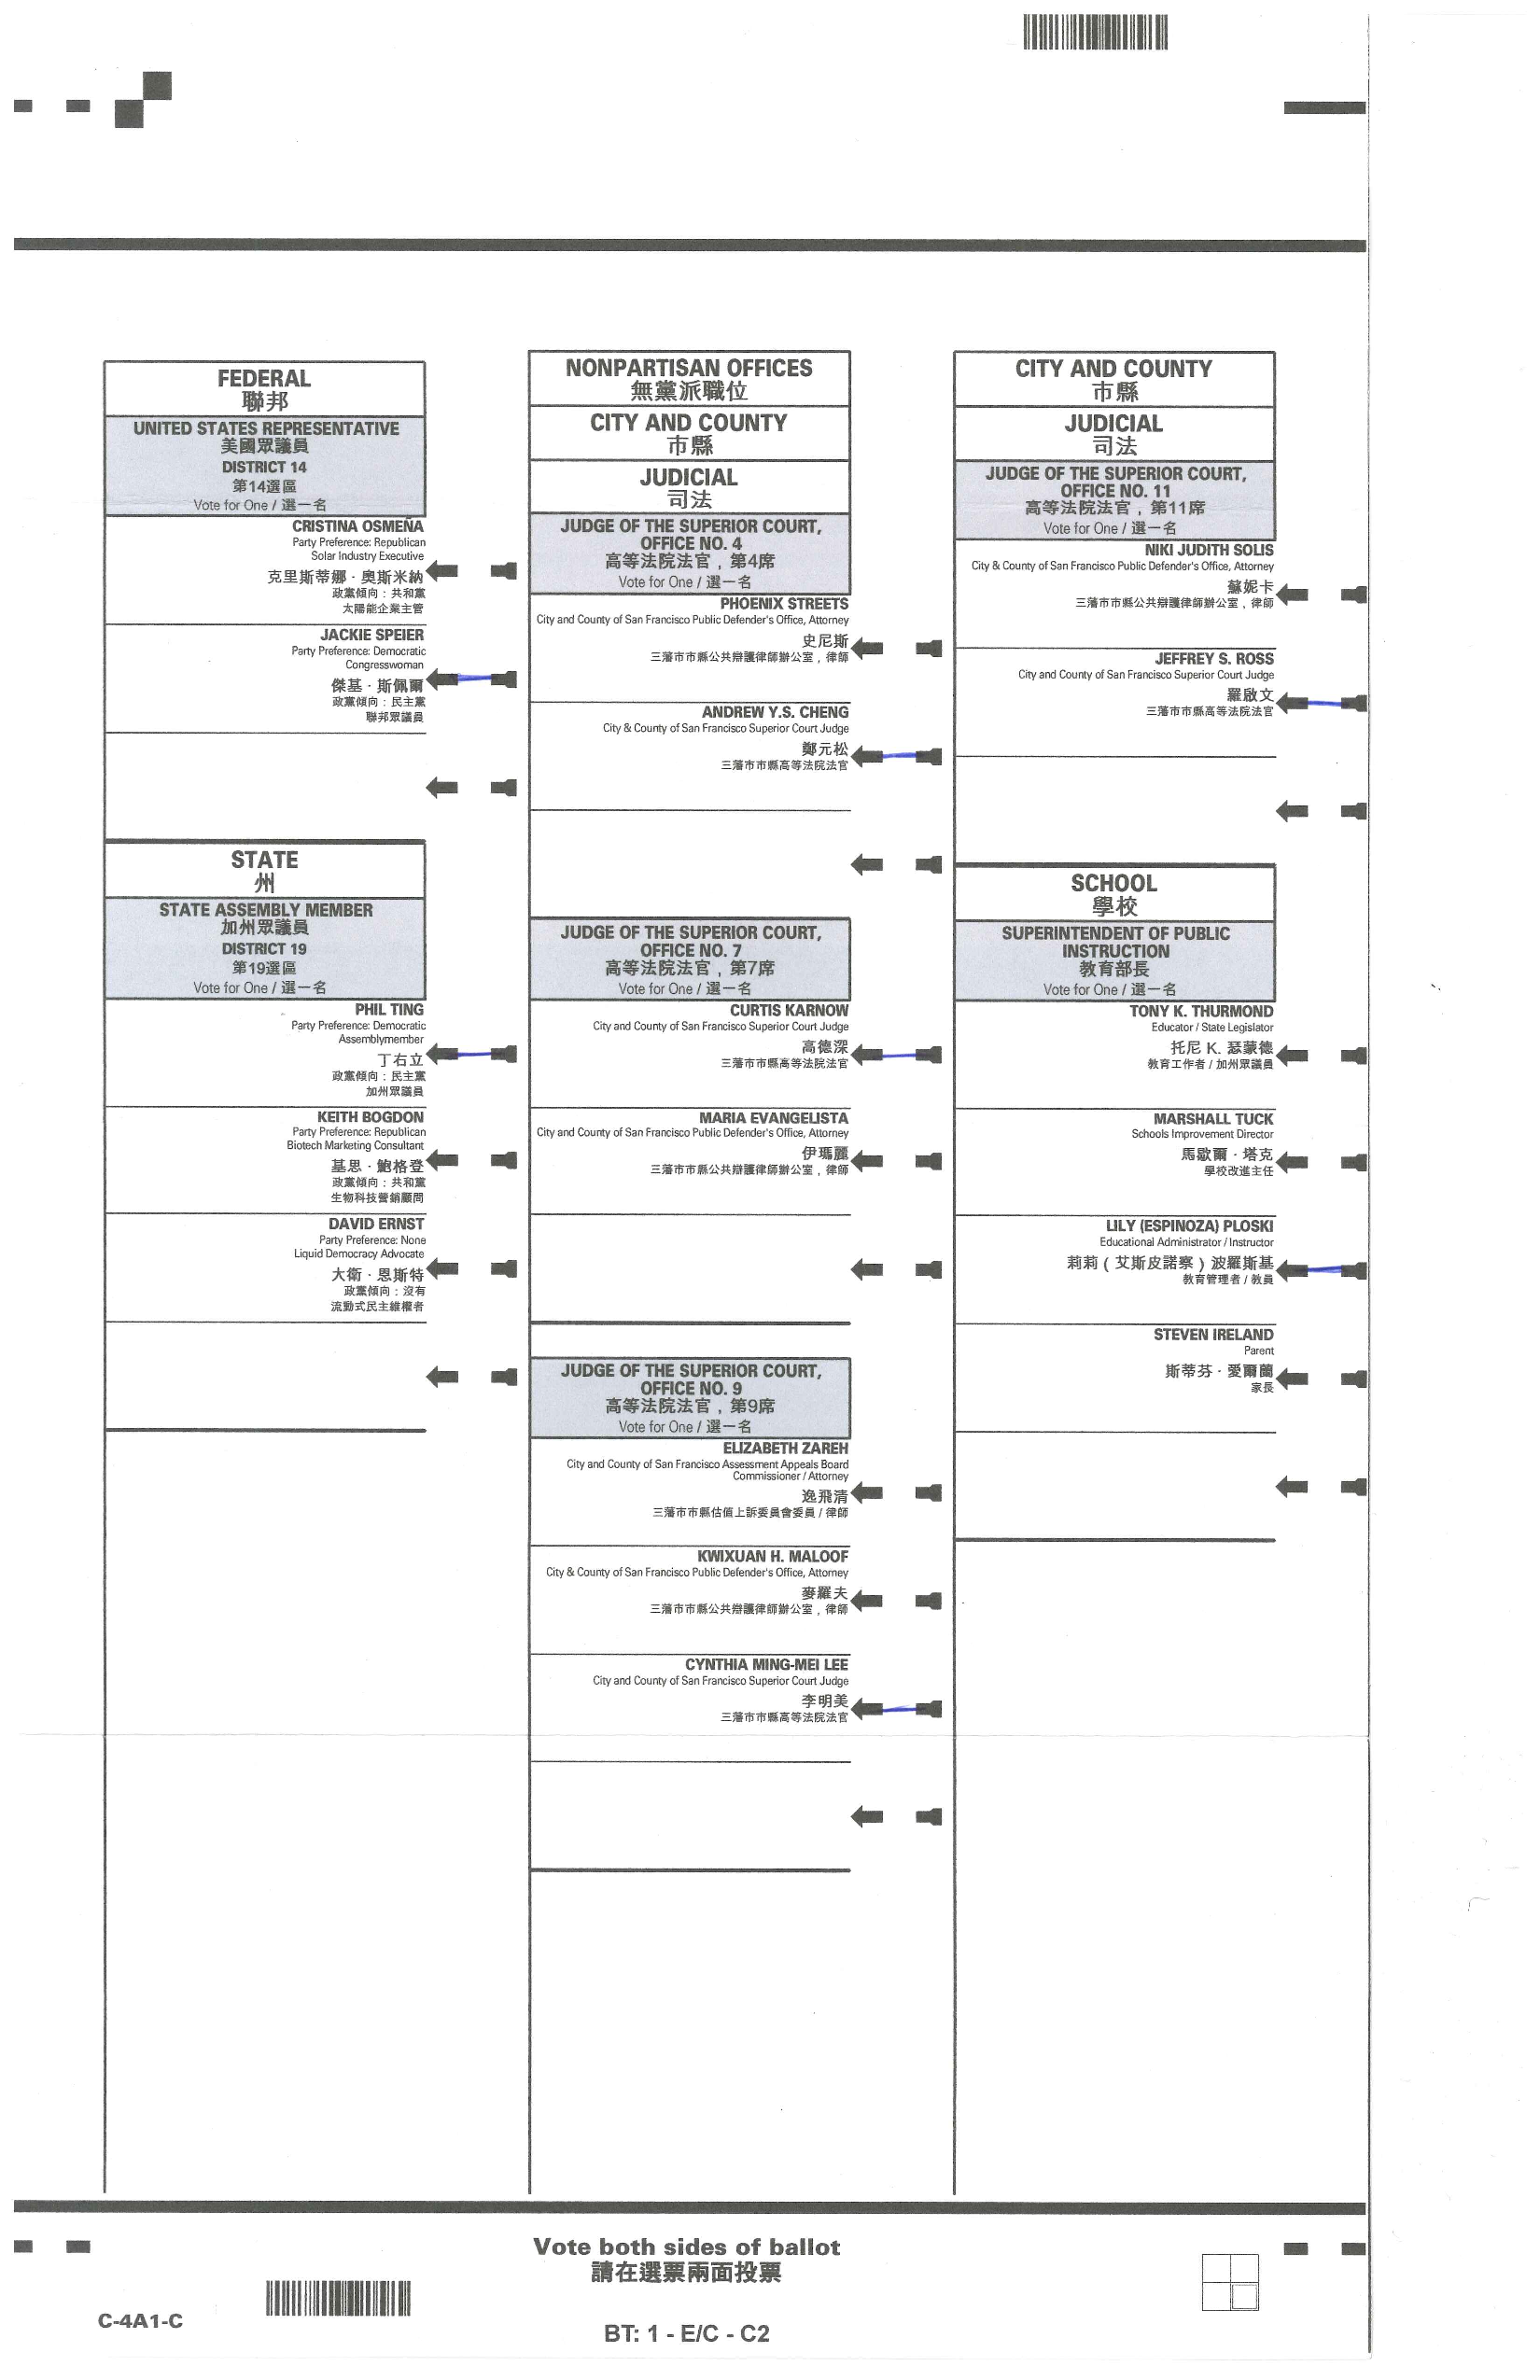marked: (1276, 1254, 1367, 1292), (1276, 687, 1370, 722), (425, 1039, 522, 1070), (852, 1695, 949, 1723), (425, 666, 520, 694), (850, 742, 945, 770), (852, 1041, 947, 1069)
unmarked: (1273, 1469, 1367, 1506), (425, 772, 519, 805), (1275, 1148, 1370, 1180), (425, 1145, 522, 1174), (850, 1481, 945, 1511), (1276, 581, 1370, 611), (425, 557, 520, 585), (425, 1360, 517, 1388)
